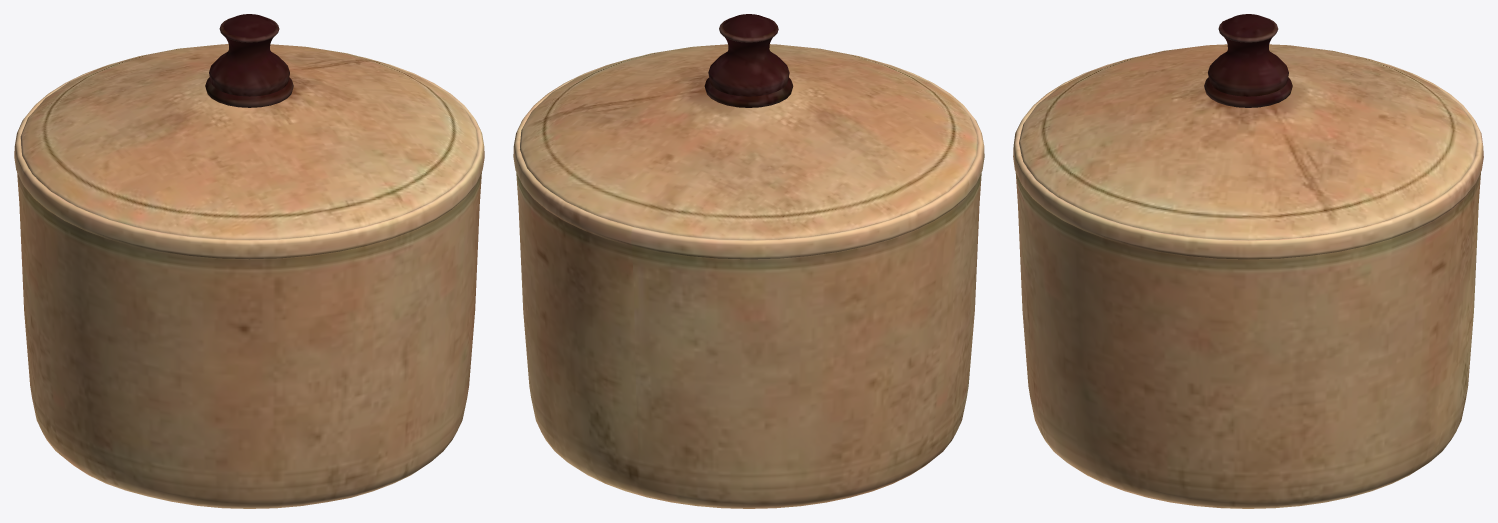
The model's file is brass-pot.glb.
The picture shows the model from 3 angles, left to right: view 1: azimuth 30°, elevation 25°; view 2: azimuth 150°, elevation 25°; view 3: azimuth 270°, elevation 25°; orthographic projection.
Visible parts, largest first — view 1: brass-pot; view 2: brass-pot; view 3: brass-pot.
Boxes of the visible parts, left/top/right/bottom form: brass-pot: left=14, top=14, right=484, bottom=508; brass-pot: left=513, top=14, right=984, bottom=508; brass-pot: left=1013, top=14, right=1483, bottom=508.
Bounding box in the file's own units: 0.3019 × 0.291 × 0.3017.
Materials: 1 (1 with a texture image).
